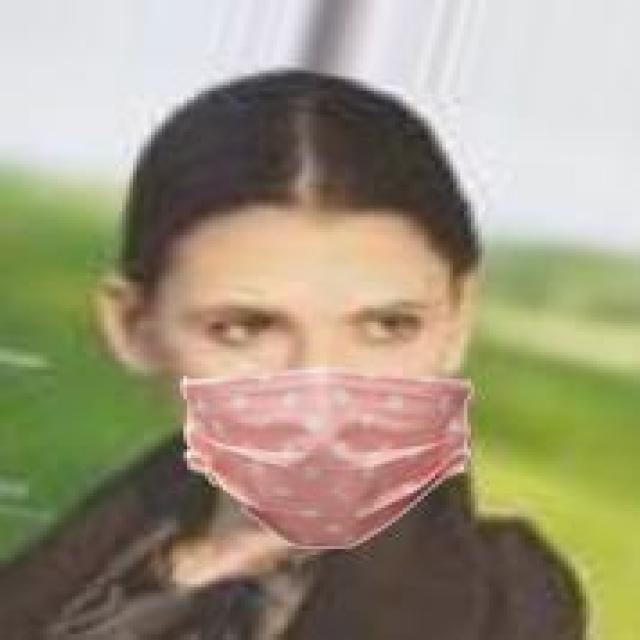mask: (86, 88, 543, 549)
